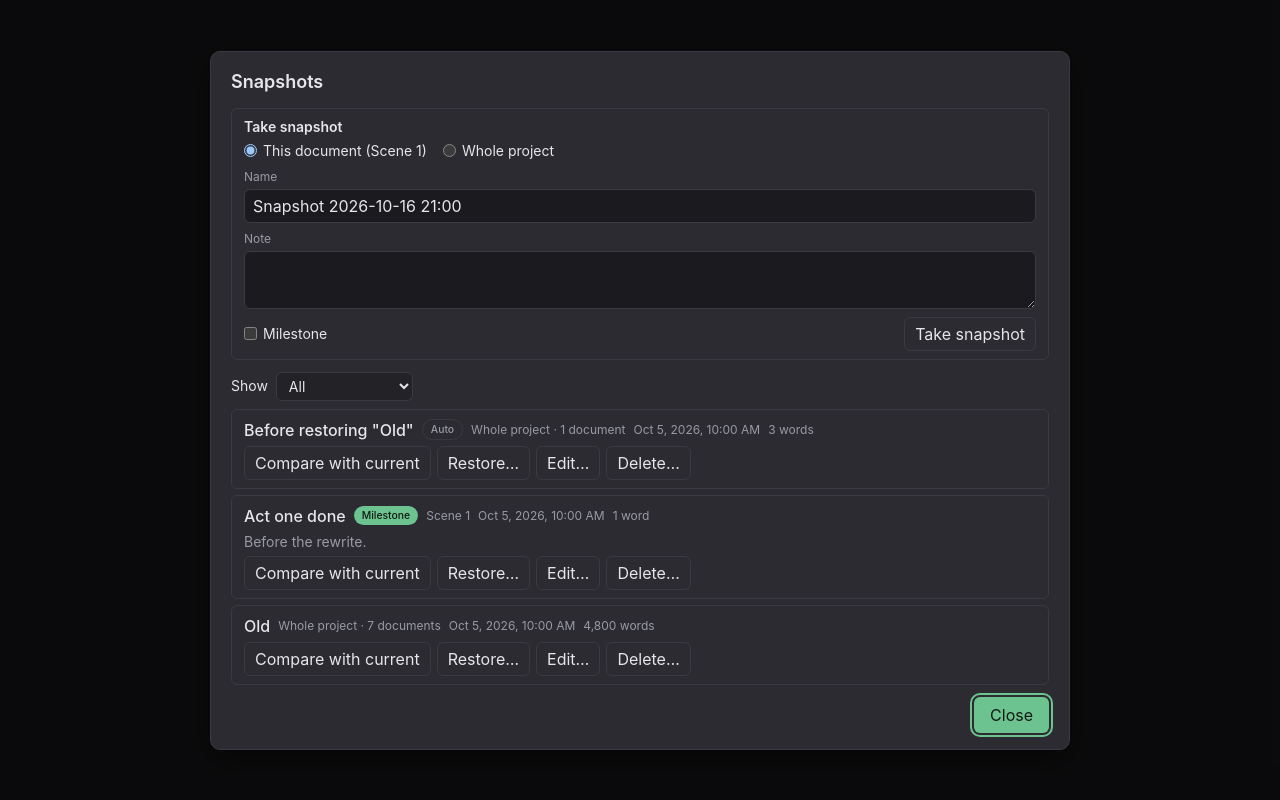
SnapshotsDialog (F-8.6) › compares two snapshots without offering a restore
Click the button with aria-label "Compare Old with current" at (337,658), box [244,642,431,676]
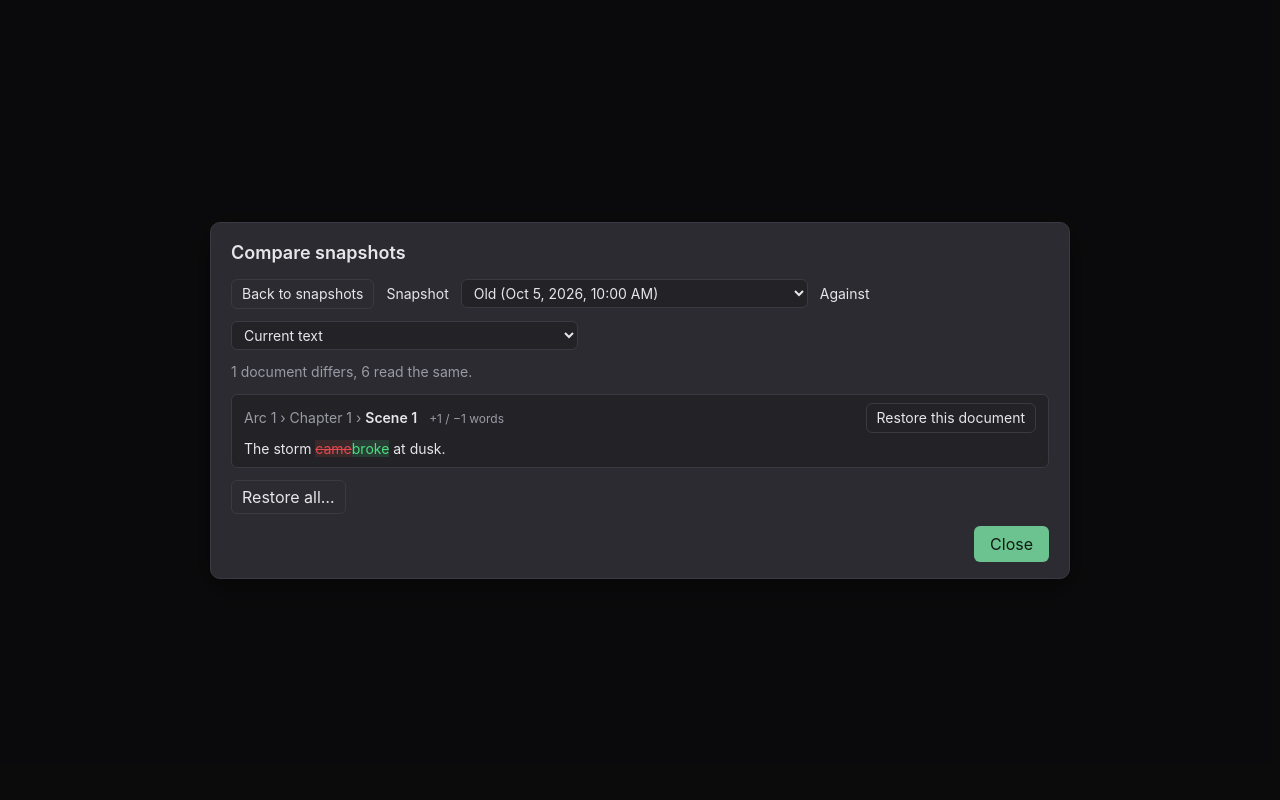
Result: the element "Scene 1" is shown at [231,394,1049,468]
Select "Act one done (Oct 5, 2026, 10:00 AM)" in the dropdown labelled "Against" at (404,335), box [231,320,578,350]
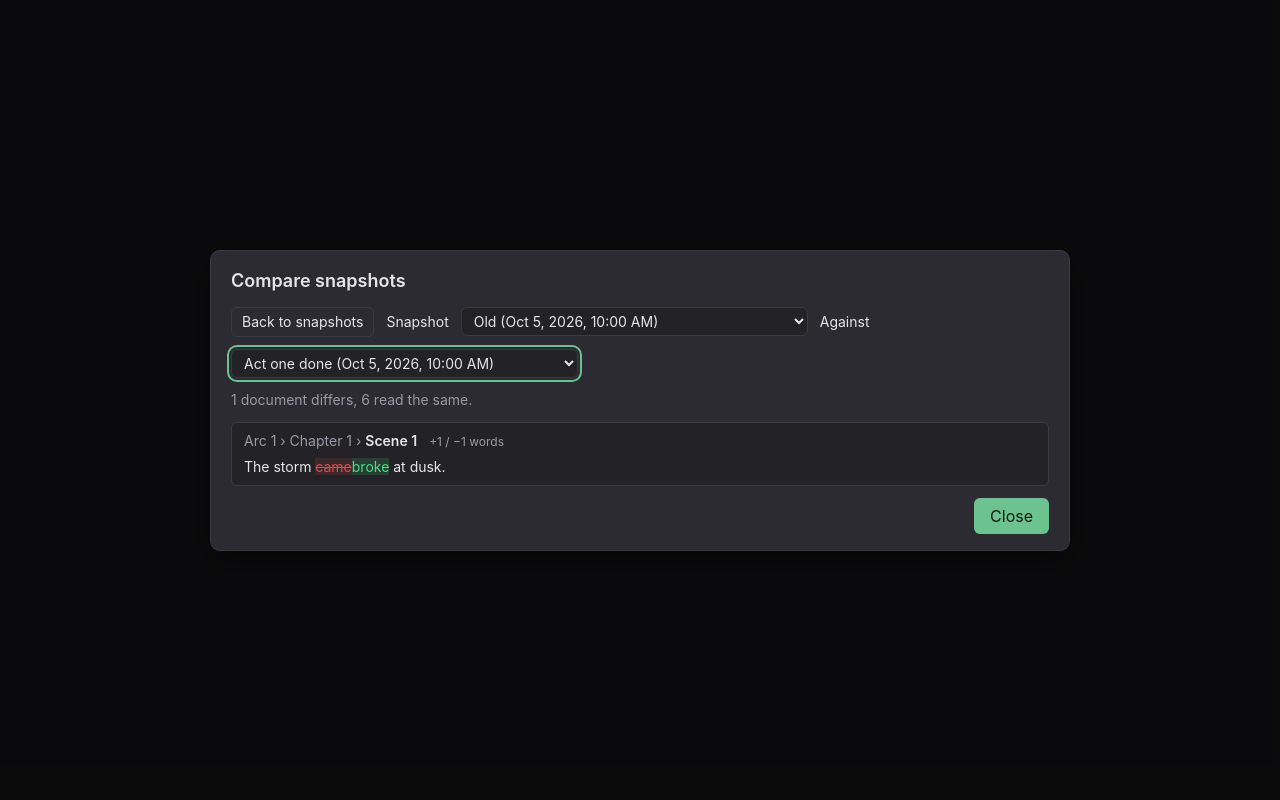
Result: the element "Scene 1" is shown at [231,422,1049,486]
Result: the button "Restore" is gone
